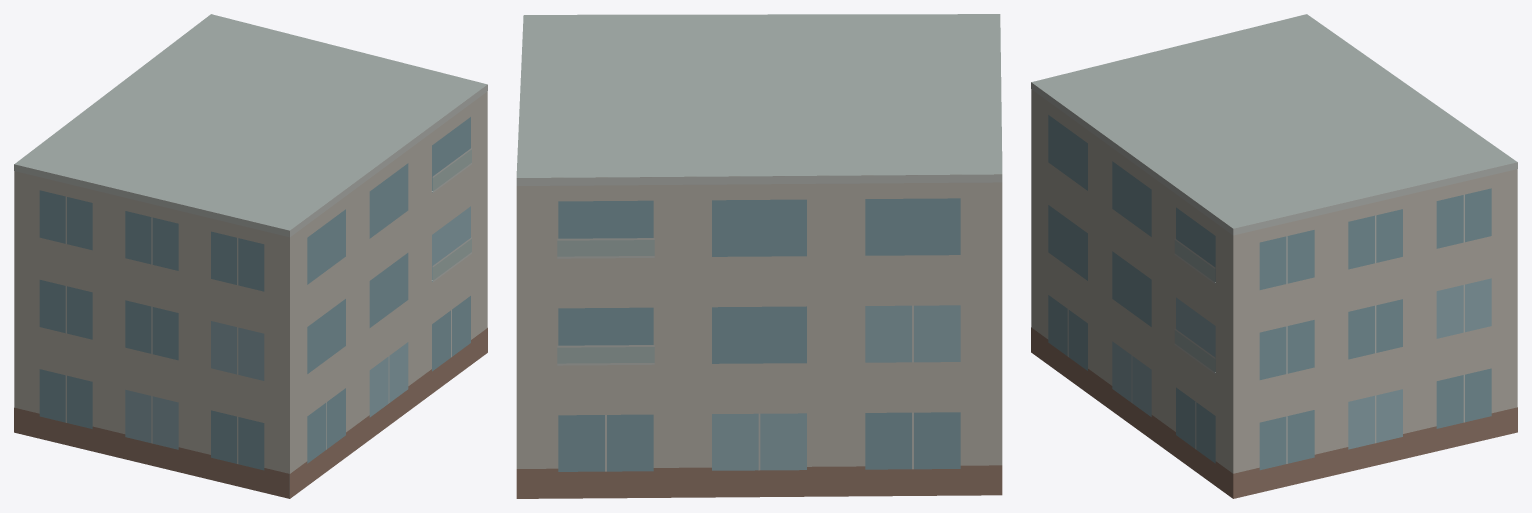
Rendered from survey-upis-32527918.glb.
The picture shows the model from 3 angles, left to right: view 1: azimuth 30°, elevation 25°; view 2: azimuth 150°, elevation 25°; view 3: azimuth 270°, elevation 25°; orthographic projection. The views are drawn at different scales.
Parts seen in each view (by area): view 1: survey-upis-32527918.tmp; view 2: survey-upis-32527918.tmp; view 3: survey-upis-32527918.tmp.
Part boxes in pixels (x1,y1,x2,y2): survey-upis-32527918.tmp: [14, 14, 487, 498]; survey-upis-32527918.tmp: [516, 14, 1002, 498]; survey-upis-32527918.tmp: [1031, 14, 1517, 498].
Bounding box in the file's own units: 16.63 × 9.75 × 15.93.
